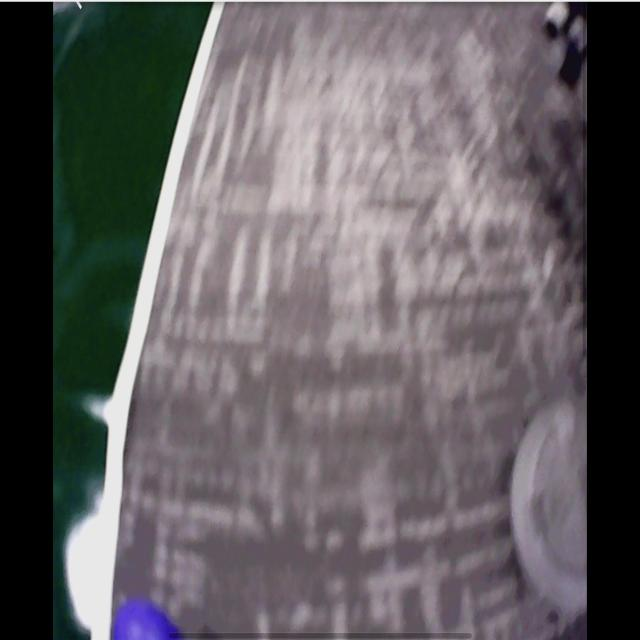ball: (113, 602, 179, 640)
